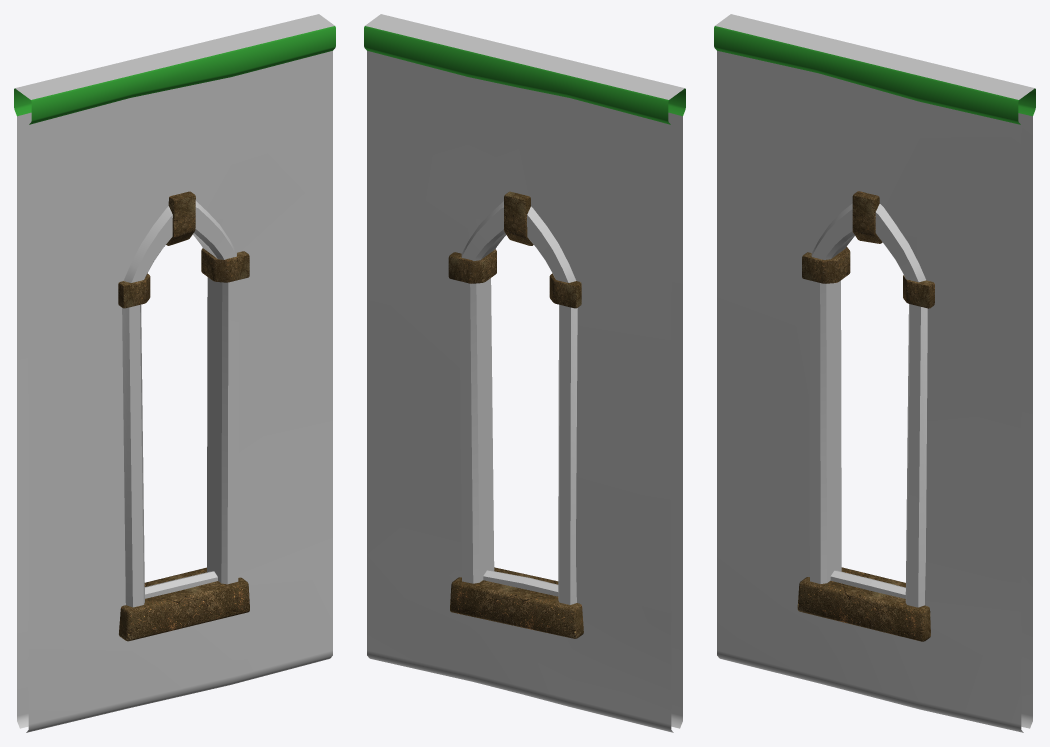
The model's file is DG_WallGothic6m_Window_A.FBX.
3 renders of one model, left to right at view 1: azimuth 30°, elevation 25°; view 2: azimuth 150°, elevation 25°; view 3: azimuth 330°, elevation 25°, orthographic.
Visible parts, largest first — view 1: DG_WallGothic6m_Window_A; view 2: DG_WallGothic6m_Window_A; view 3: DG_WallGothic6m_Window_A.
Part boxes in pixels (x1,y1,x2,y2): DG_WallGothic6m_Window_A: (14, 14, 335, 732); DG_WallGothic6m_Window_A: (364, 14, 685, 732); DG_WallGothic6m_Window_A: (714, 14, 1035, 732).
Bounding box in the file's own units: 300 × 600 × 49.19.
